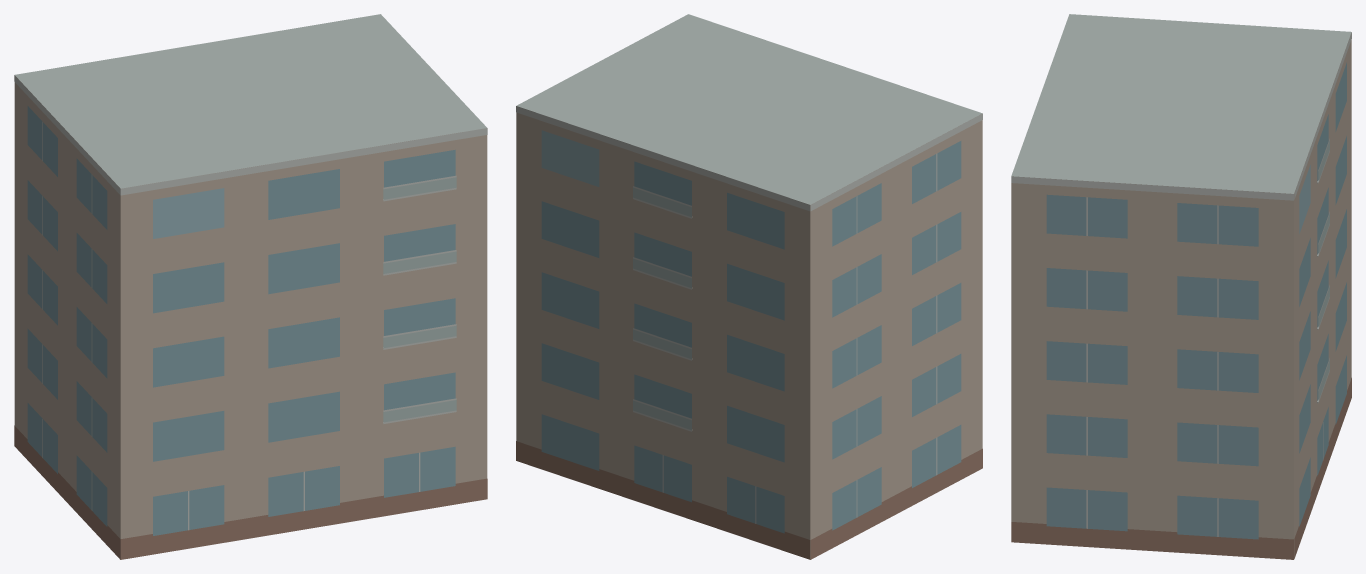
The model's file is survey-upis-33022704.glb.
3 renders of one model, left to right at view 1: azimuth 30°, elevation 25°; view 2: azimuth 150°, elevation 25°; view 3: azimuth 270°, elevation 25°, orthographic. The views are drawn at different scales.
Parts seen in each view (by area): view 1: survey-upis-33022704.tmp; view 2: survey-upis-33022704.tmp; view 3: survey-upis-33022704.tmp.
Part boxes in pixels (box(x1,y1,x2,y2)): survey-upis-33022704.tmp: box(14, 14, 487, 559); survey-upis-33022704.tmp: box(516, 14, 982, 559); survey-upis-33022704.tmp: box(1011, 14, 1351, 559).
Bounding box in the file's own units: 13.93 × 13.2 × 11.14.
